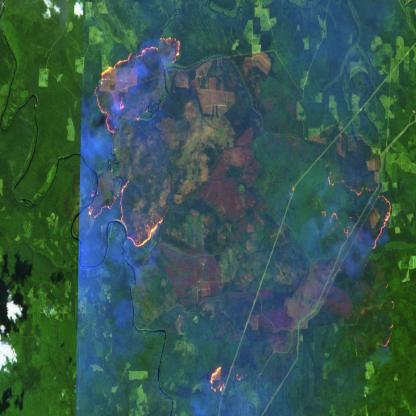fire: (84, 29, 188, 256), (205, 356, 230, 399)
